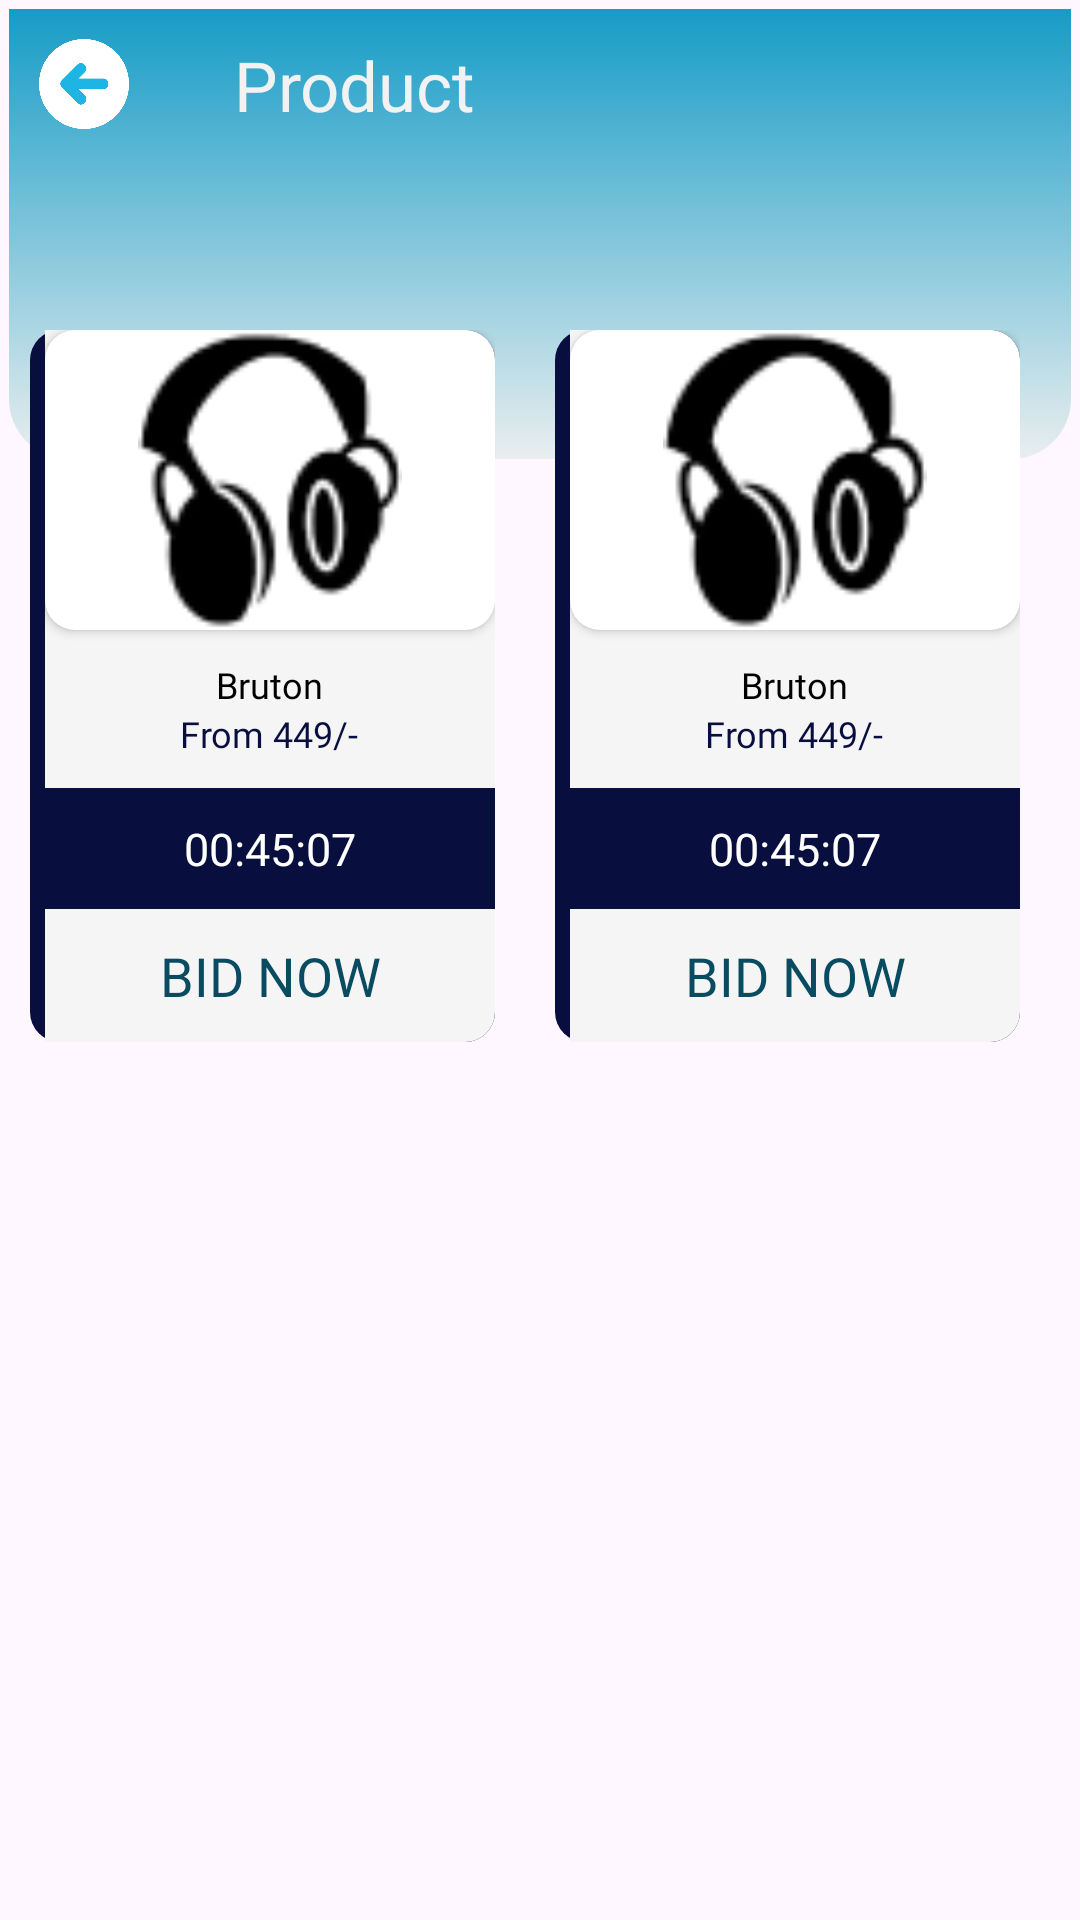

Where to tap for icons on this 1080w x 1920h app screen, as (x,y):
previous: (84,84)
